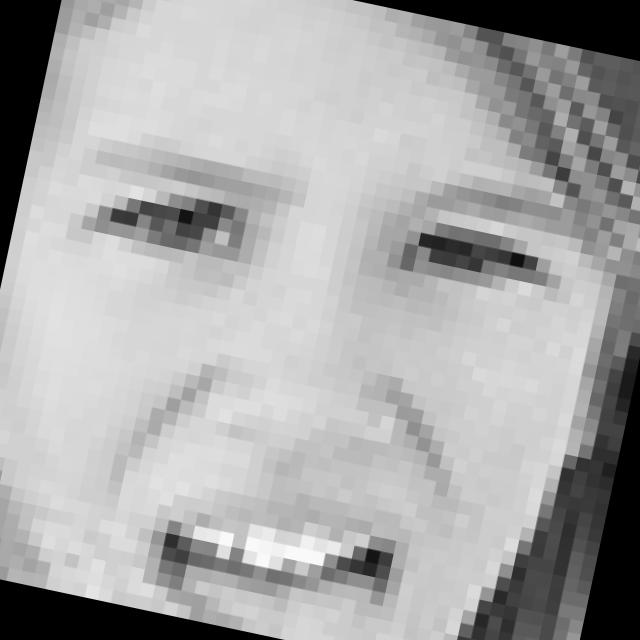disgust: (0, 103, 589, 640)
